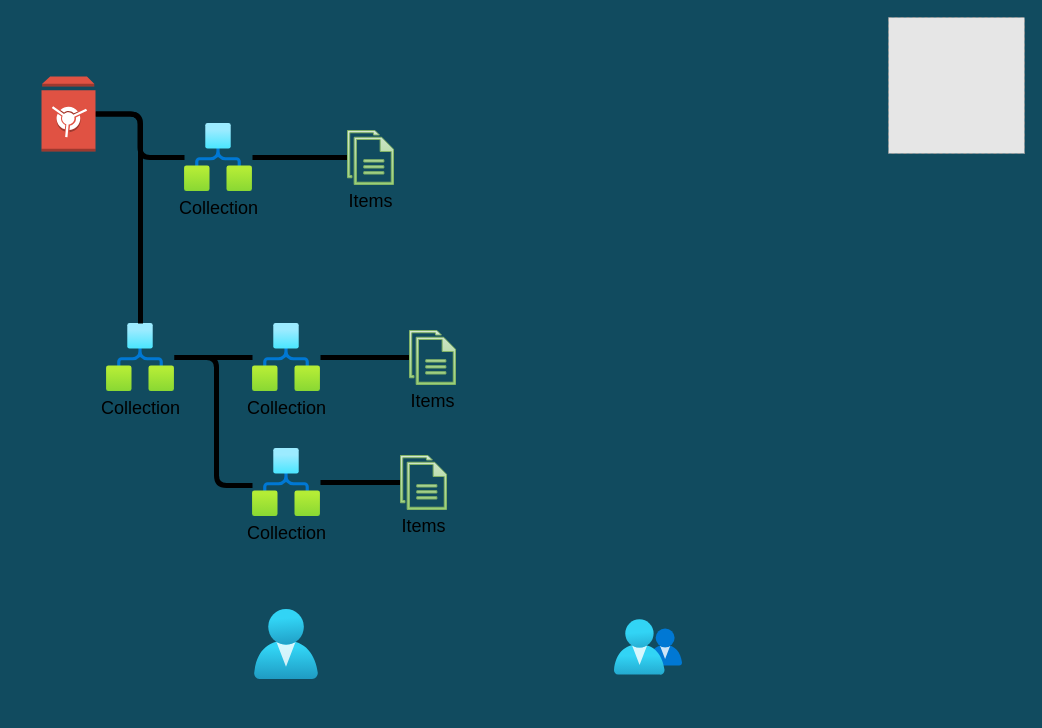
This 1042x728 diagram has some shape labels left out. Grey dashed boxes stand in for pictures. Each missing label, with the centre of its shape:
Group: [648,647]
Organization: [68,114]
User: [286,644]
